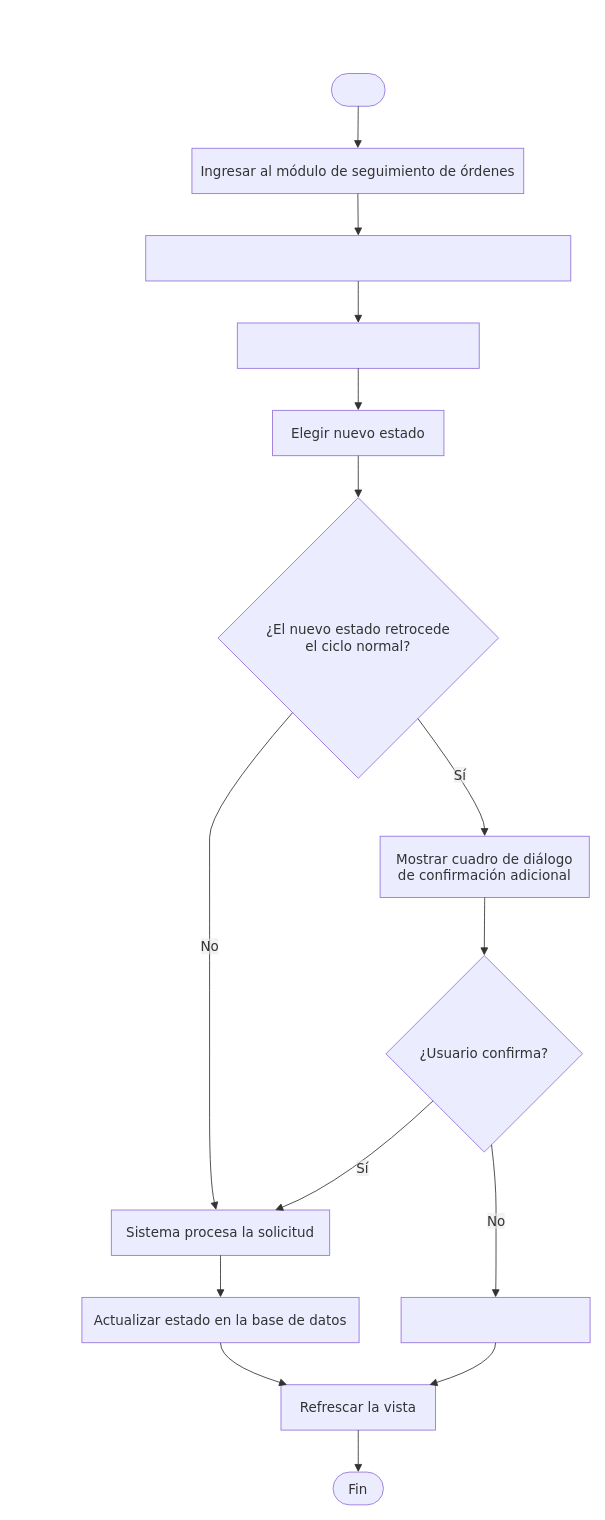
Image size: 605x1520. Some labels were removed from this diagram. Each missing label, with the centre of its shape:
"Cancelar actualización" goes at pixel 495 1320.
"Inicio" goes at pixel 358 89.
"Seleccionar pedido a actualizar" goes at pixel 357 345.
"Sistema muestra listado de pedidos activos y estados actuales" goes at pixel 358 258.
